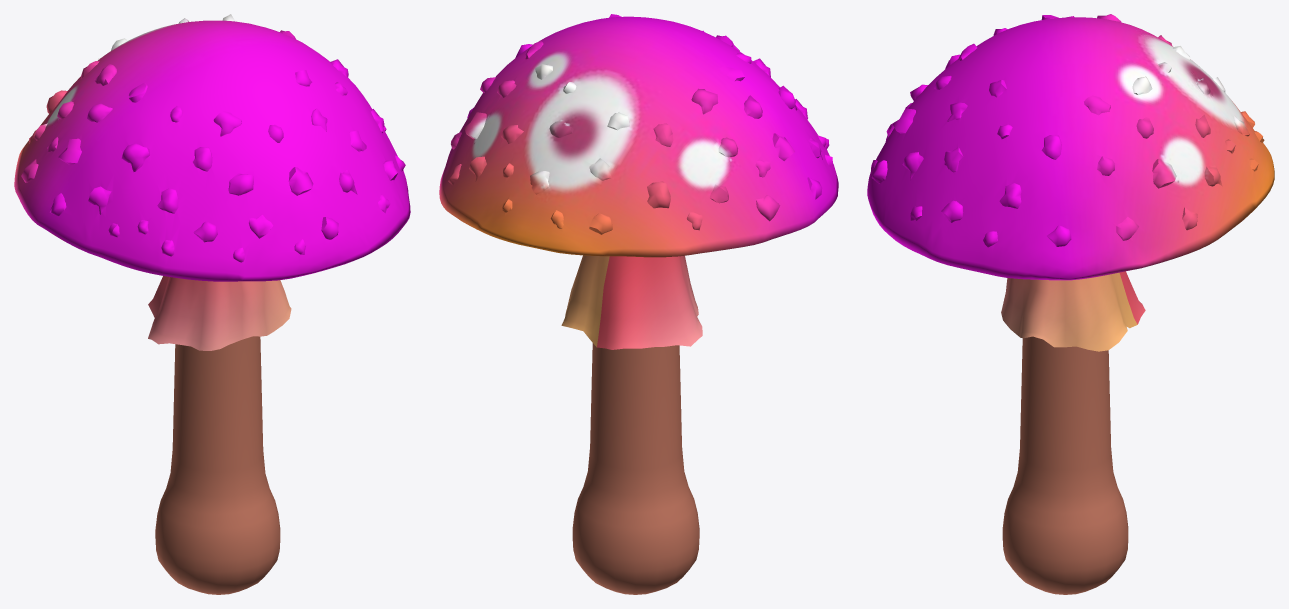
The model's file is mushglb.glb.
The picture shows the model from 3 angles, left to right: view 1: azimuth 30°, elevation 25°; view 2: azimuth 150°, elevation 25°; view 3: azimuth 270°, elevation 25°; orthographic projection.
Parts seen in each view (by area): view 1: Malla, Malla_2, Malla_1; view 2: Malla, Malla_2, Malla_1; view 3: Malla, Malla_2, Malla_1.
Part boxes in pixels (left/top/right/bottom): Malla: left=14, top=14, right=410, bottom=281; Malla_2: left=155, top=336, right=280, bottom=594; Malla_1: left=148, top=276, right=291, bottom=350; Malla: left=439, top=14, right=838, bottom=257; Malla_2: left=572, top=343, right=699, bottom=594; Malla_1: left=561, top=255, right=702, bottom=349; Malla: left=867, top=14, right=1274, bottom=280; Malla_2: left=1002, top=336, right=1128, bottom=594; Malla_1: left=1001, top=271, right=1145, bottom=351.
Bounding box in the file's own units: 3.99 × 6.05 × 4.
Materials: 3 (3 with a texture image).
